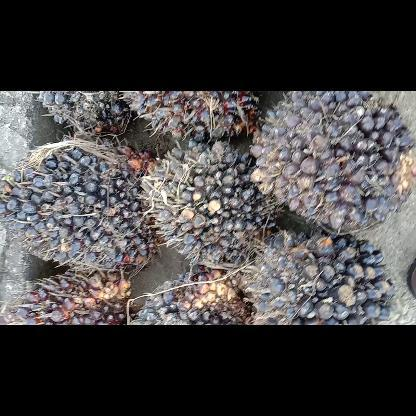TBS mentah: (247, 91, 414, 233), (0, 135, 167, 277), (136, 139, 284, 267), (239, 224, 396, 324), (0, 262, 143, 325), (115, 91, 263, 145), (126, 264, 258, 324)
